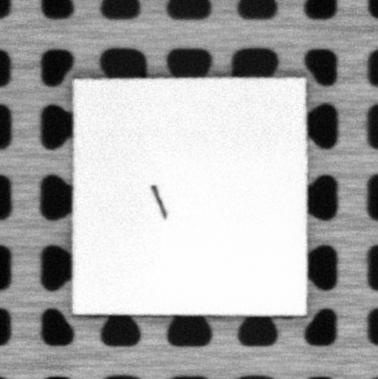DIE_INK: (149, 184, 169, 220)
